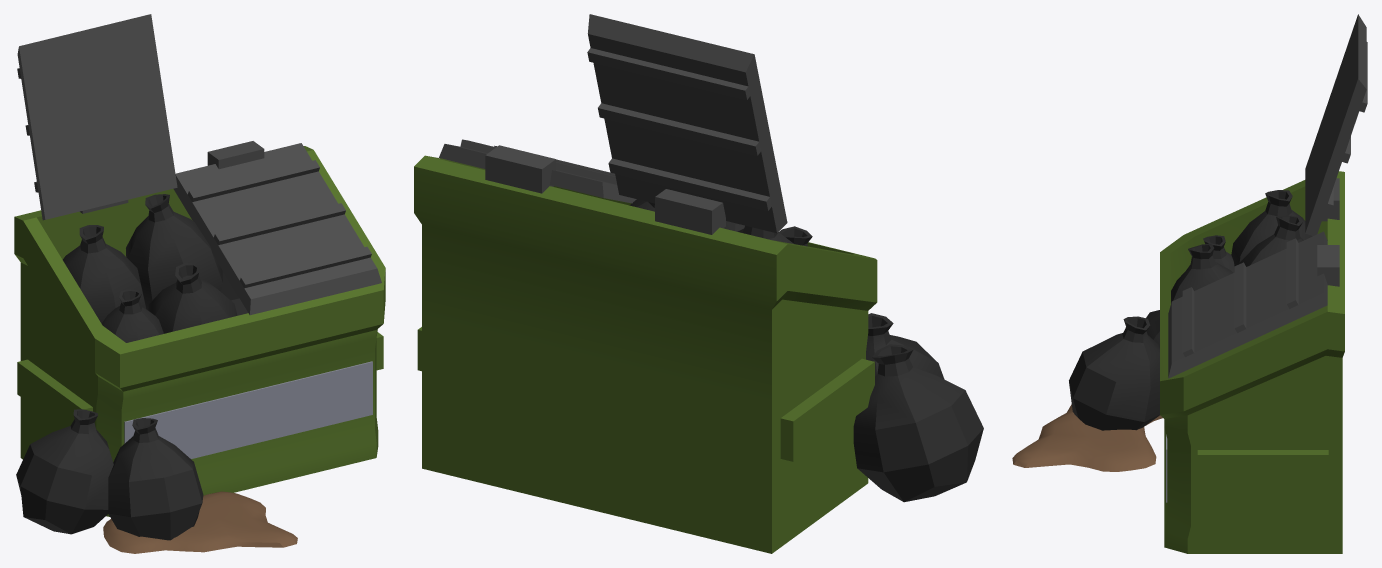
File: TrashContainerOpen.gltf
3 views of the same model, side by side, from view 1: azimuth 30°, elevation 25°; view 2: azimuth 150°, elevation 25°; view 3: azimuth 270°, elevation 25° (orthographic). The views are drawn at different scales.
Parts seen in each view (by area): view 1: TrashContainer_Open; view 2: TrashContainer_Open; view 3: TrashContainer_Open.
Boxes of the visible parts, <box> form: TrashContainer_Open: <box>14,14,385,553</box>; TrashContainer_Open: <box>414,14,983,553</box>; TrashContainer_Open: <box>1012,14,1367,553</box>.
Size of the model in its own units: 3.16 by 3.34 by 2.63.
